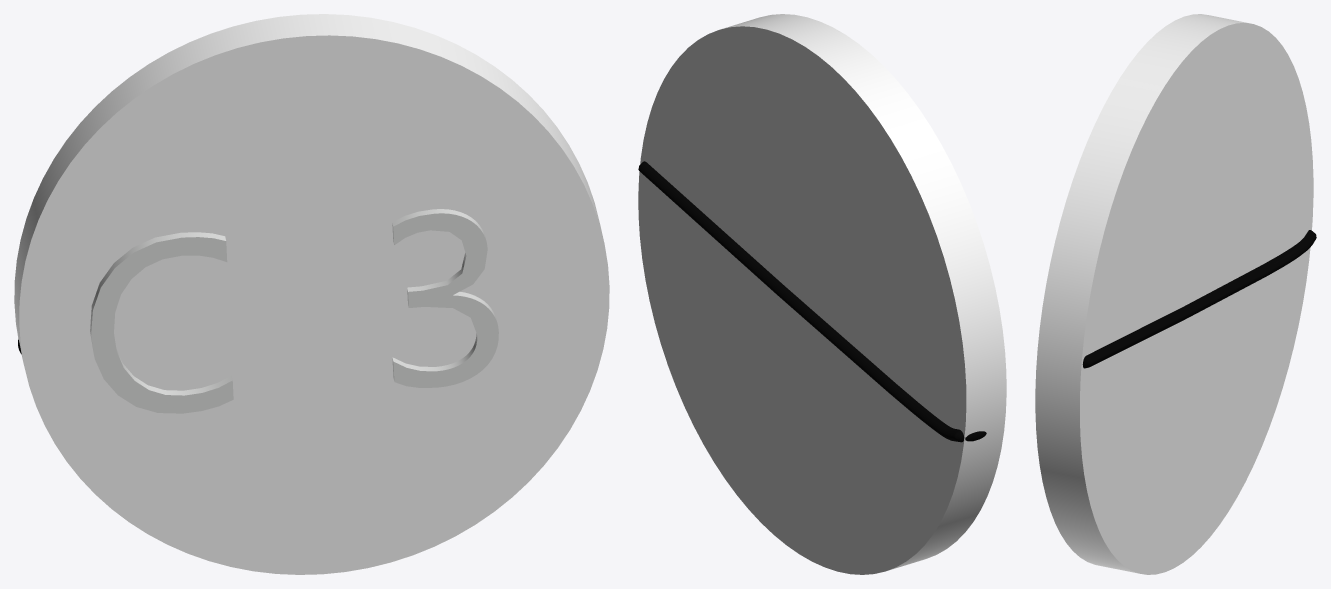
The model's file is Cardura.fbx.
3 renders of one model, left to right at view 1: azimuth 30°, elevation 25°; view 2: azimuth 150°, elevation 25°; view 3: azimuth 270°, elevation 25°, orthographic. The views are drawn at different scales.
Parts seen in each view (by area): view 1: node_id106, node_id162, node_id171; view 2: node_id106, node_id212; view 3: node_id106, node_id212.
Part boxes in pixels (bbox=[...]): node_id106: bbox=[14, 14, 609, 574]; node_id162: bbox=[90, 232, 233, 413]; node_id171: bbox=[392, 209, 498, 387]; node_id106: bbox=[638, 14, 1006, 574]; node_id212: bbox=[638, 161, 986, 442]; node_id106: bbox=[1035, 14, 1313, 574]; node_id212: bbox=[1082, 230, 1316, 368].
Size of the model in its own units: 1.16 by 1.23 by 0.6142.
Materials: 4 (3 with a texture image).
